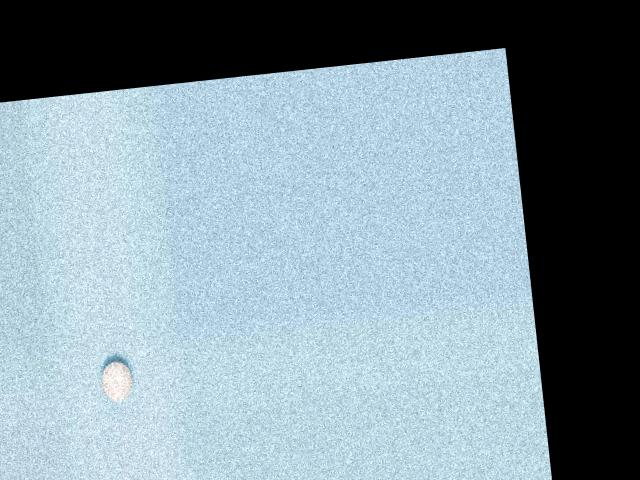egg: (99, 359, 134, 403)
